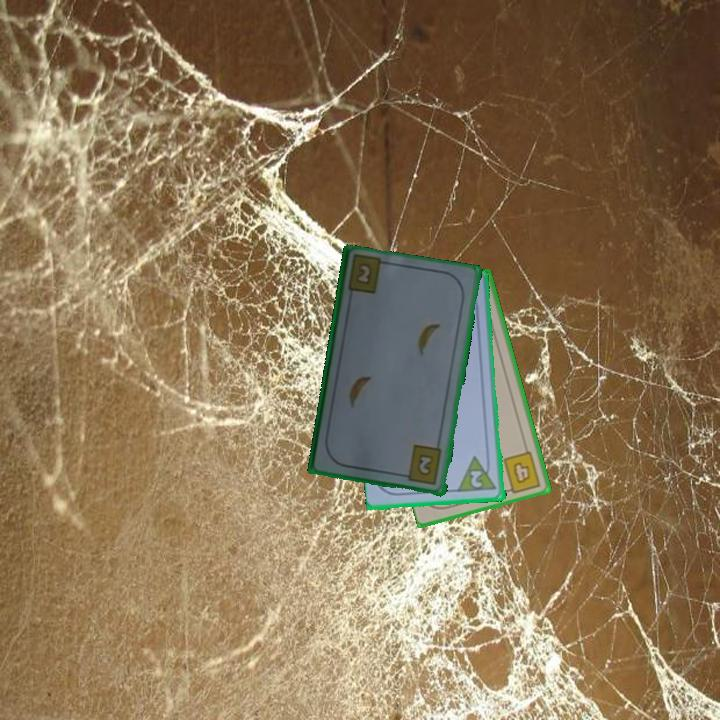2b: (399, 442, 445, 488), (352, 262, 374, 288)
2p: (467, 467, 485, 491)
4b: (500, 448, 544, 496)
